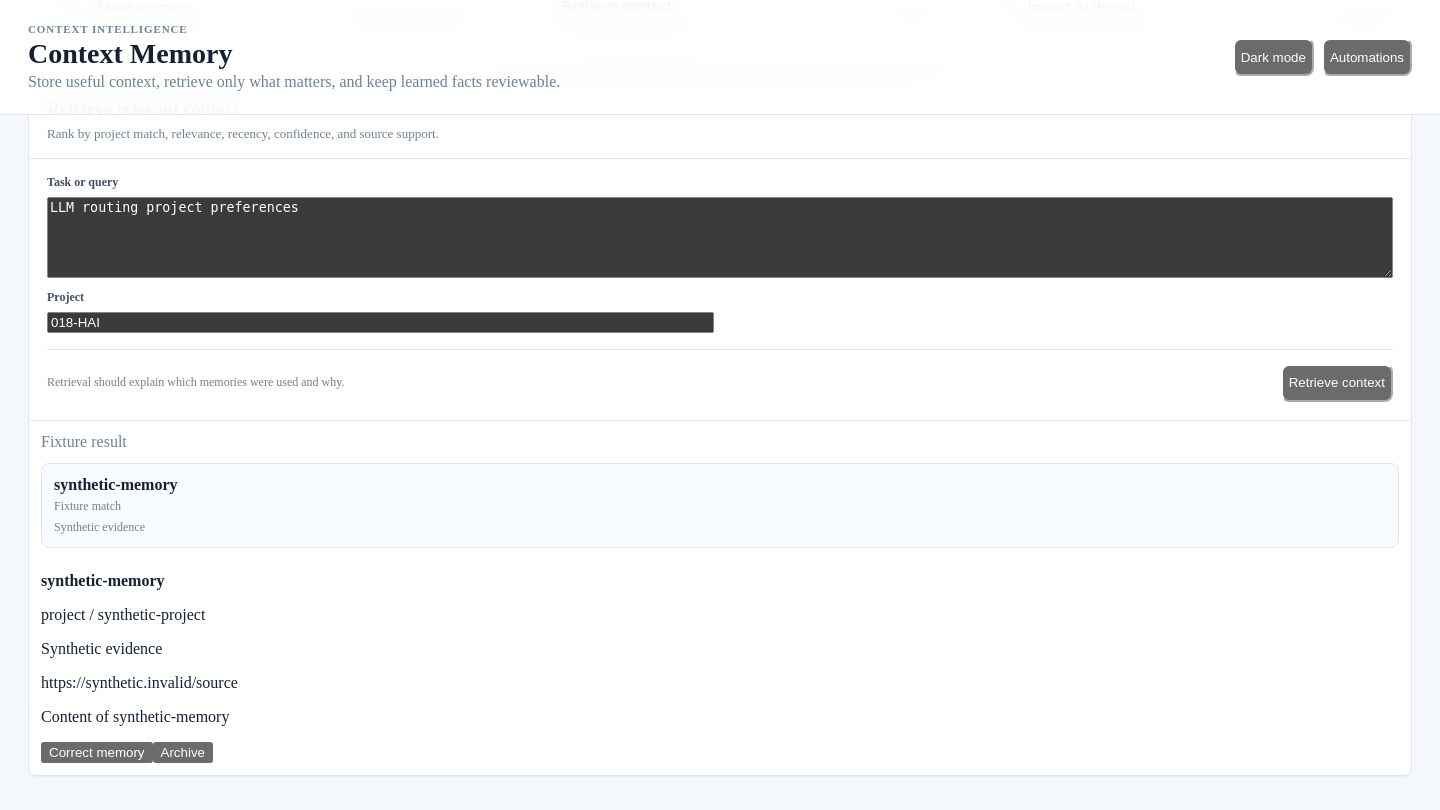
Test: MemoryComponent rendered HTTP action chains (synthetic fixtures only) › renders Basic retrieval, provenance, correction and archive without loading the library
(page scrolled)
Expected: the element with class "memory-basic-detail" shows "https://synthetic.invalid/source", [41,674,238,691]
Expected: the element with class "memory-basic-detail" shows "Synthetic evidence", [41,640,162,657]
Click the button "Archive".
click(183, 753)  # box [152,742,213,763]
(page scrolled)
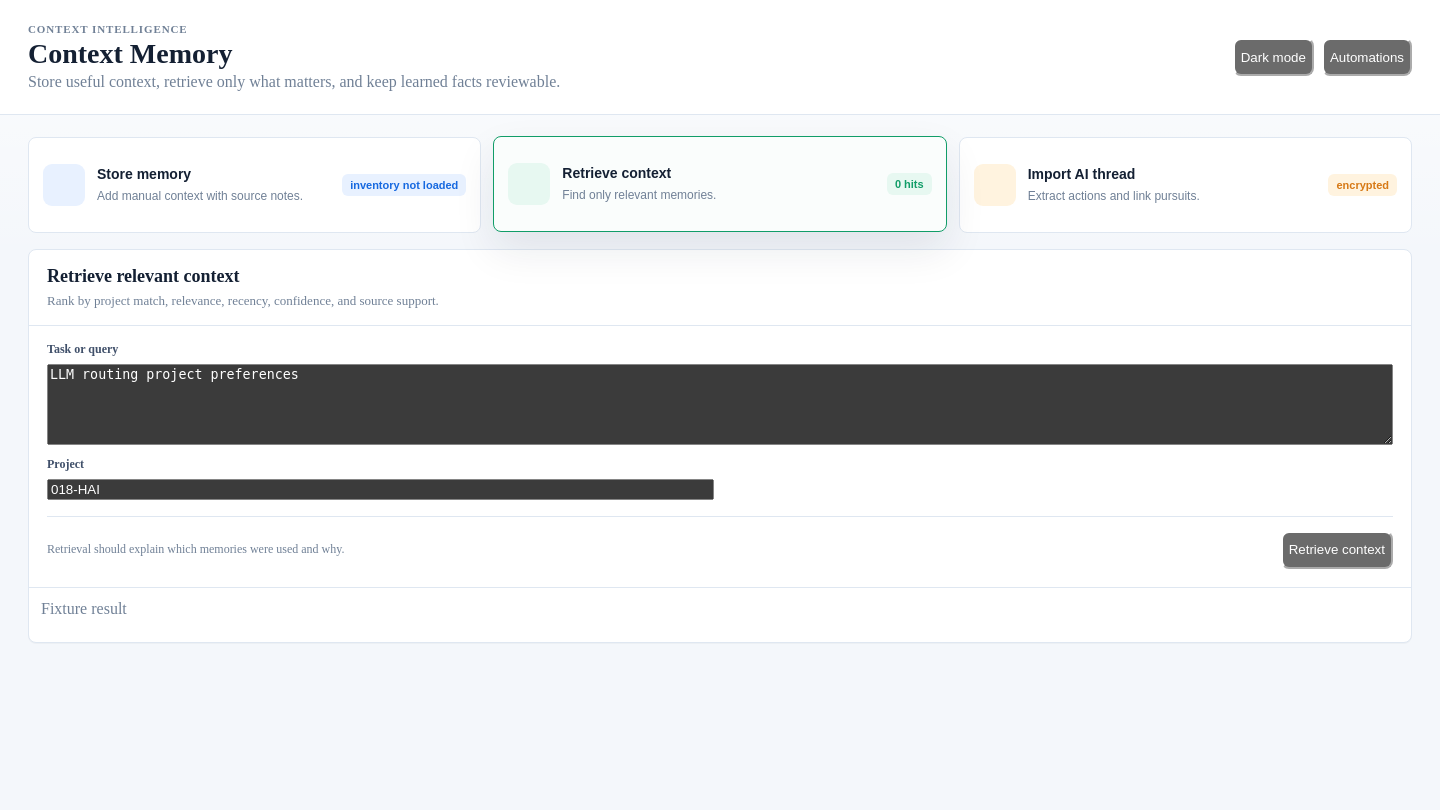
Expected: the element with class "memory-basic-detail" is gone
